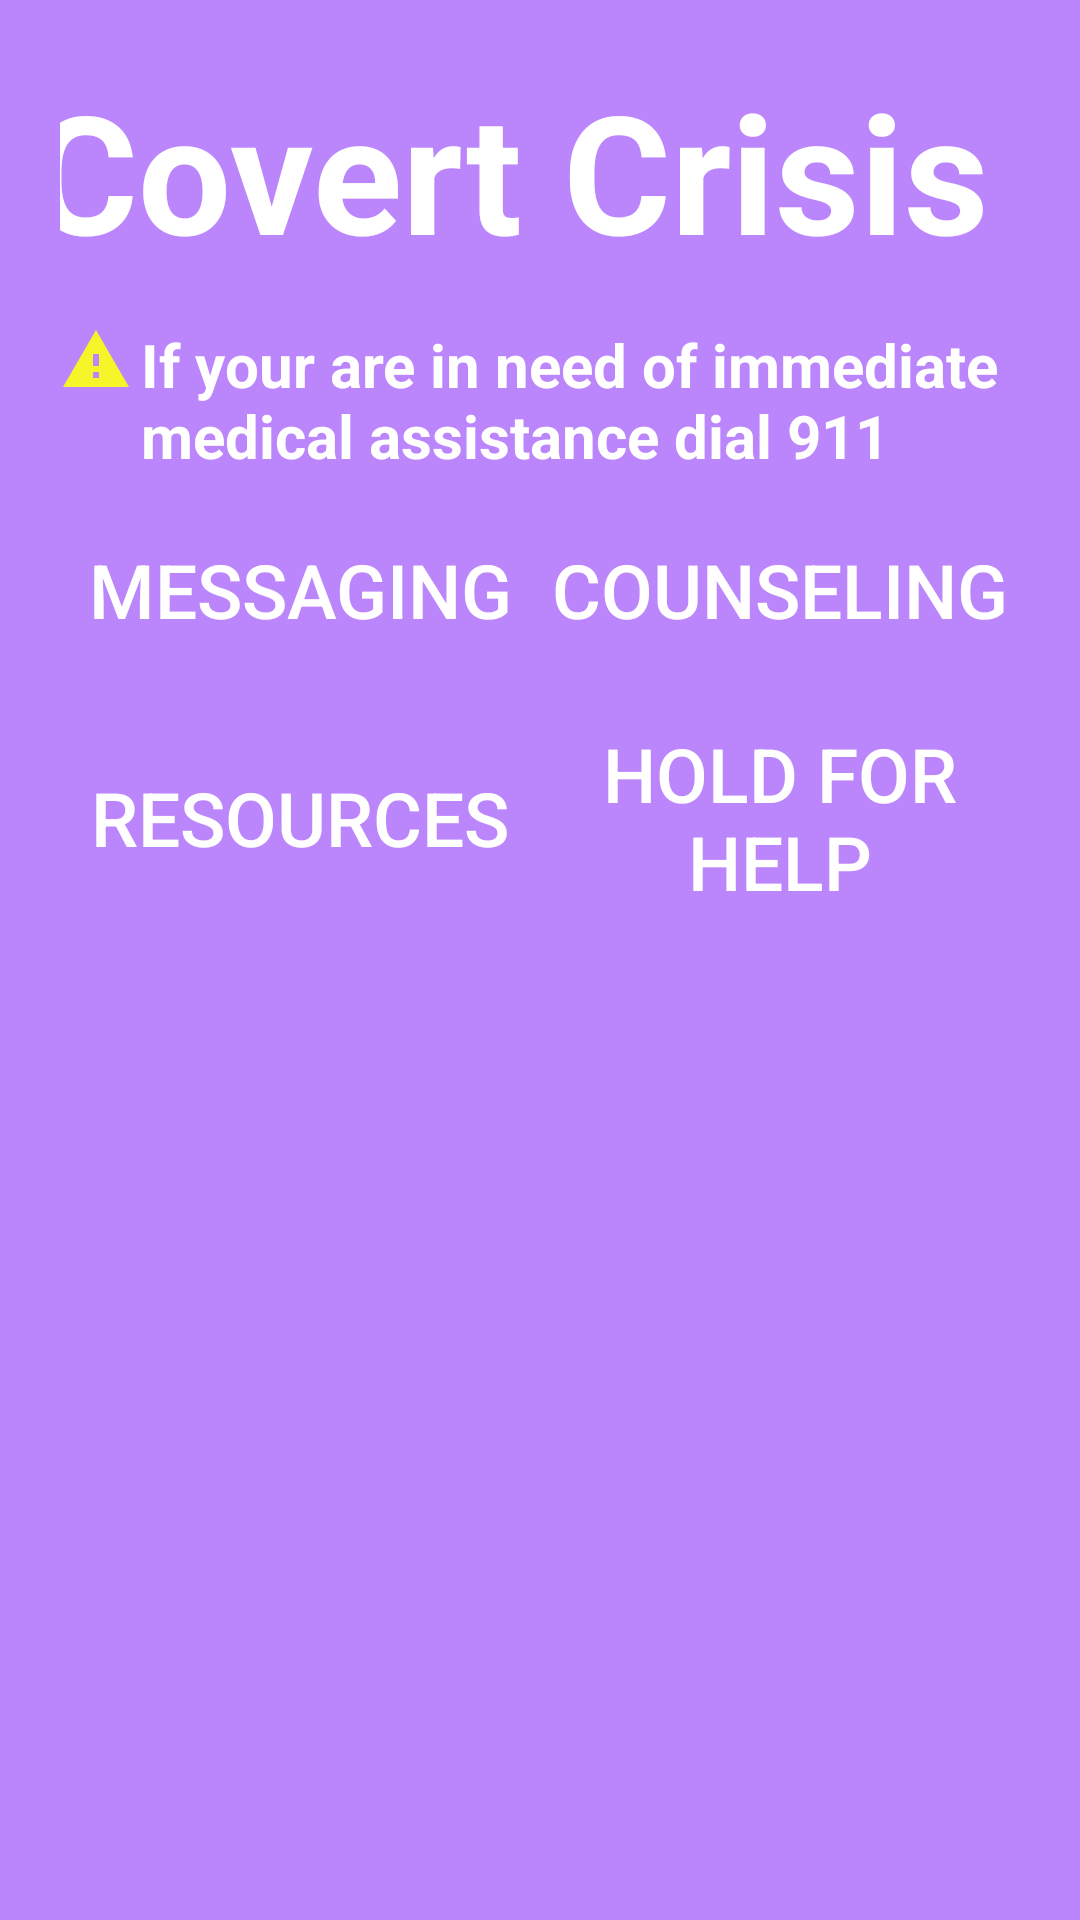

Where icons sit on this 1080w x 1920h app screen, as (x1, y1, x2, y2):
warning symbol: (63, 330, 129, 387)
